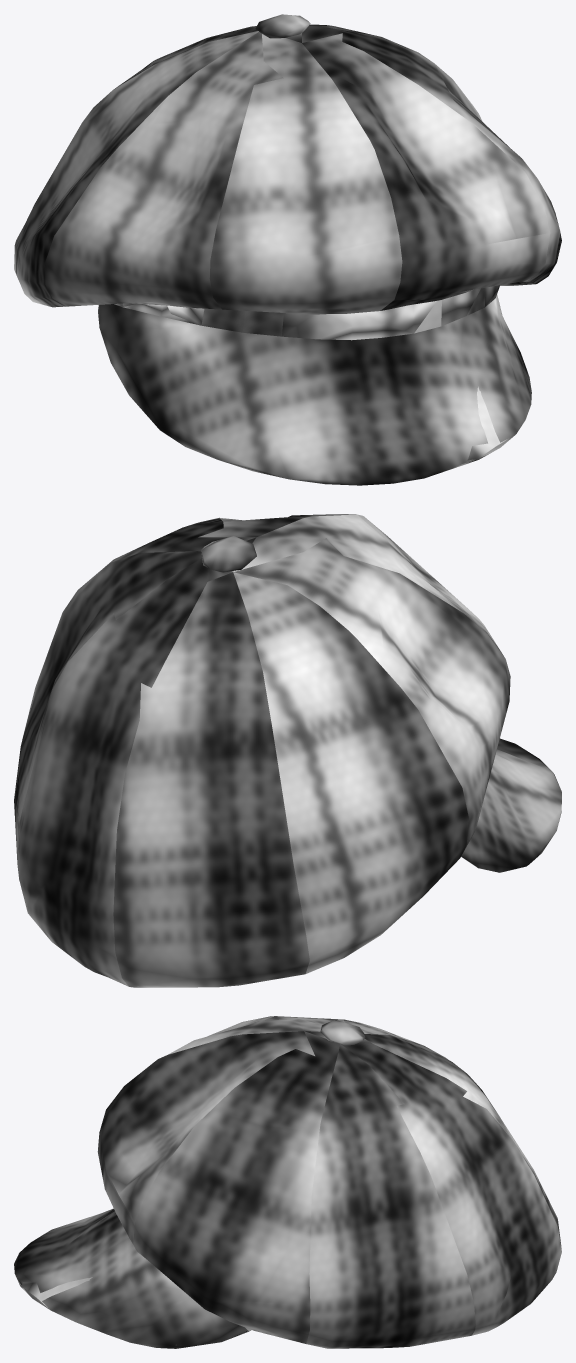
File: Hat 8.FBX
3 renders of one model, top to bottom at view 1: azimuth 30°, elevation 25°; view 2: azimuth 150°, elevation 25°; view 3: azimuth 270°, elevation 25°, orthographic. The views are drawn at different scales.
Parts seen in each view (by area): view 1: hat 8; view 2: hat 8; view 3: hat 8.
Part boxes in pixels (box(x1,y1,x2,y2)): hat 8: box(14, 14, 561, 485); hat 8: box(14, 514, 561, 987); hat 8: box(14, 1016, 561, 1348).
Bounding box in the file's own units: 43.92 × 56.15 × 31.33.
Materials: 1 (1 with a texture image).
